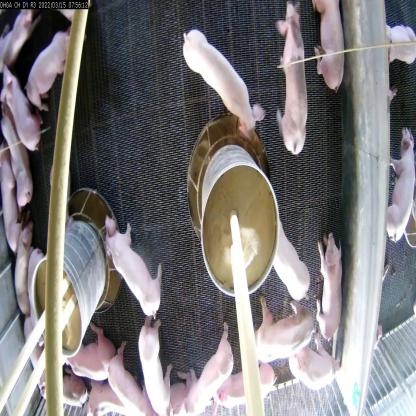Pig: (182, 11, 260, 168), (101, 204, 163, 308), (252, 291, 316, 379), (317, 229, 359, 351), (276, 2, 309, 153), (182, 336, 236, 415), (20, 28, 72, 102), (0, 68, 40, 164), (0, 107, 31, 226), (218, 365, 283, 415), (141, 321, 173, 415), (292, 342, 336, 407), (109, 352, 146, 415), (71, 316, 108, 378), (49, 363, 92, 415), (13, 234, 32, 314), (22, 313, 40, 395), (0, 154, 16, 242)
